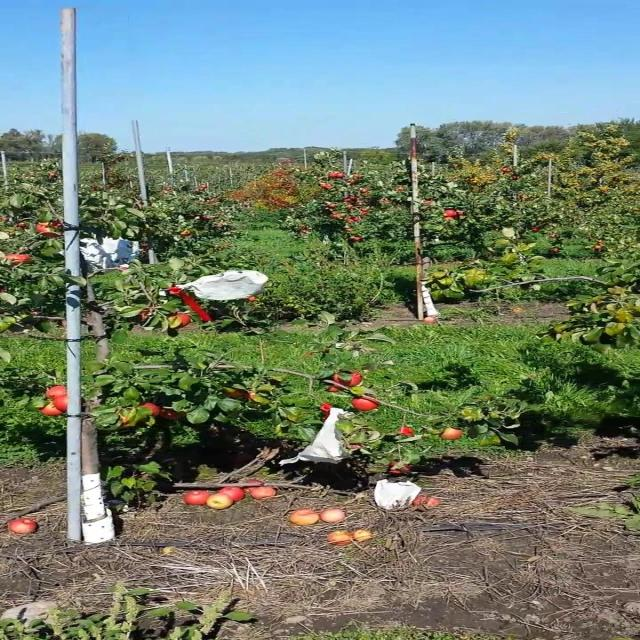apple: (333, 372, 363, 388), (184, 492, 212, 507), (42, 224, 64, 239), (355, 400, 379, 412), (440, 428, 464, 440), (141, 404, 164, 416), (170, 316, 192, 328), (163, 408, 185, 420), (390, 464, 412, 476), (49, 388, 71, 399), (56, 396, 71, 412), (227, 392, 254, 400), (42, 408, 64, 416), (404, 428, 418, 436), (141, 312, 153, 320), (326, 404, 334, 413), (326, 388, 341, 392)
